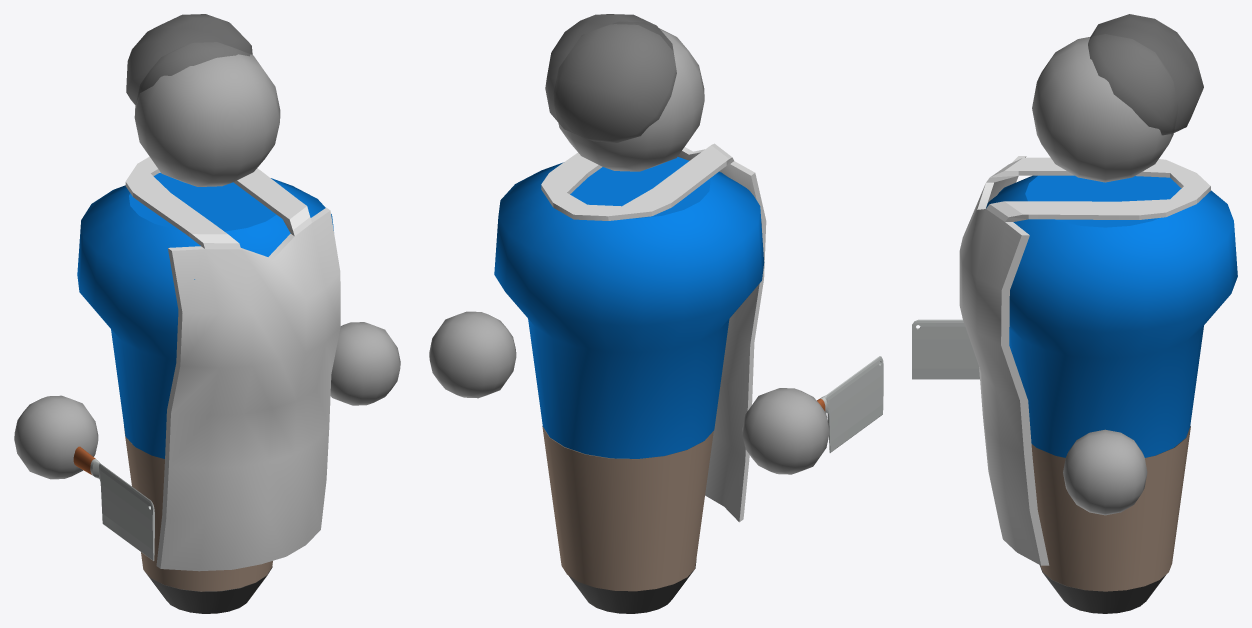
The model's file is deli man.fbx.
3 renders of one model, left to right at view 1: azimuth 30°, elevation 25°; view 2: azimuth 150°, elevation 25°; view 3: azimuth 270°, elevation 25°, orthographic. The views are drawn at different scales.
Visible parts, largest first — view 1: pCube2, polySurface7, pCube3, polySurface4; view 2: polySurface7, pCube2, pCube3, polySurface4; view 3: polySurface7, pCube2, pCube3, polySurface4.
Boxes of the visible parts, x1,y1,x2,y2 form: pCube2: [125, 156, 340, 571]; polySurface7: [14, 42, 400, 613]; pCube3: [126, 14, 252, 104]; polySurface4: [73, 446, 154, 560]; polySurface7: [429, 24, 829, 613]; pCube2: [541, 143, 766, 522]; pCube3: [545, 14, 676, 142]; polySurface4: [817, 356, 883, 452]; polySurface7: [986, 34, 1237, 613]; pCube2: [959, 156, 1210, 565]; pCube3: [1088, 14, 1203, 135]; polySurface4: [912, 319, 979, 379].
Bounding box in the file's own units: 3.63 × 5.26 × 2.7.
